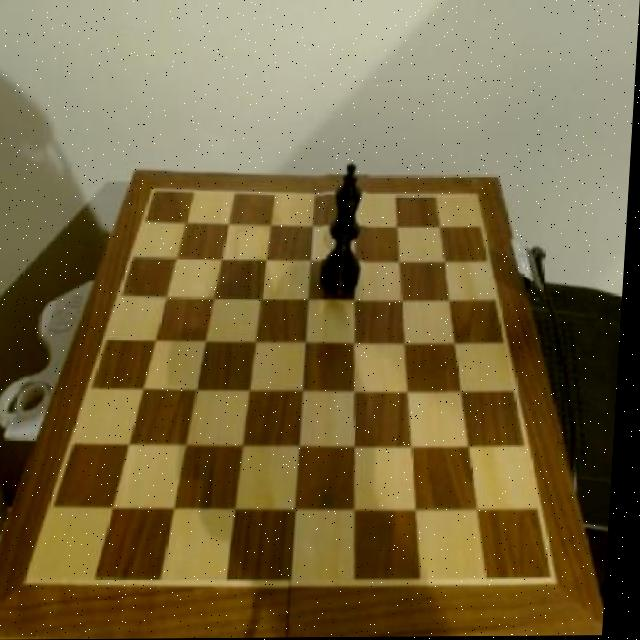black-bishop: (323, 164, 372, 297)
